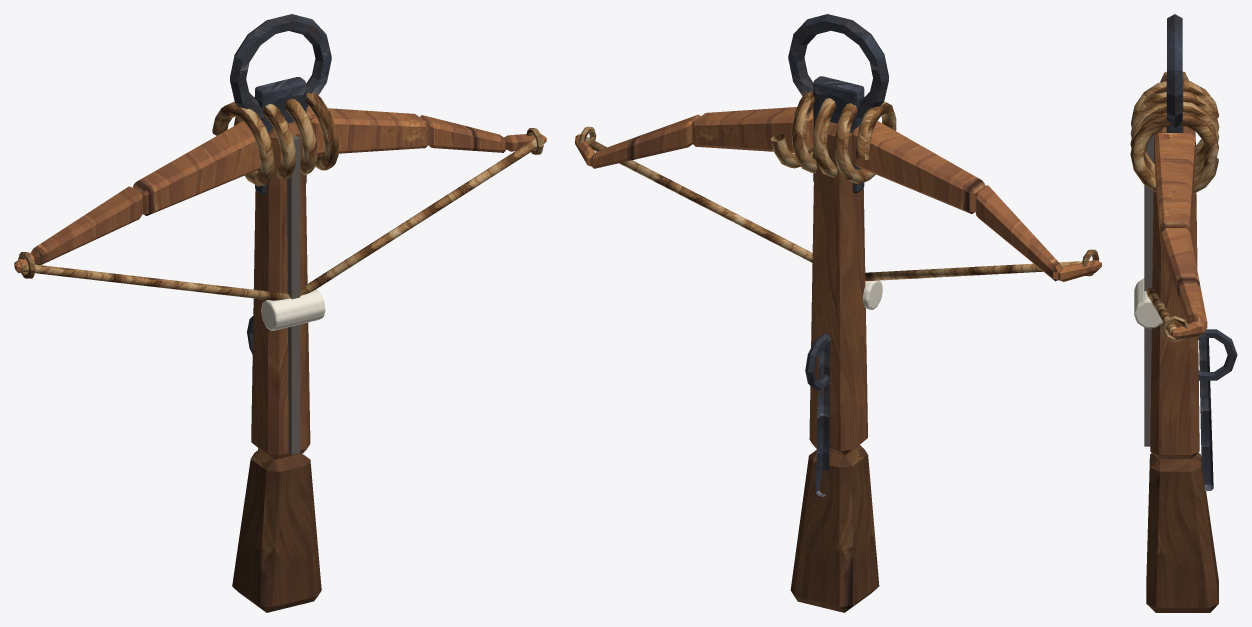
The model's file is crossbow_stone.glb.
3 renders of one model, left to right at view 1: azimuth 30°, elevation 25°; view 2: azimuth 150°, elevation 25°; view 3: azimuth 270°, elevation 25°, orthographic.
Parts seen in each view (by area): view 1: model; view 2: model; view 3: model.
Part boxes in pixels (x1,y1,x2,y2): model: [14, 14, 546, 612]; model: [575, 14, 1101, 612]; model: [1130, 14, 1237, 612].
Size of the model in its own units: 0.74 by 0.7792 by 0.13.
8 materials, 6 textured.
